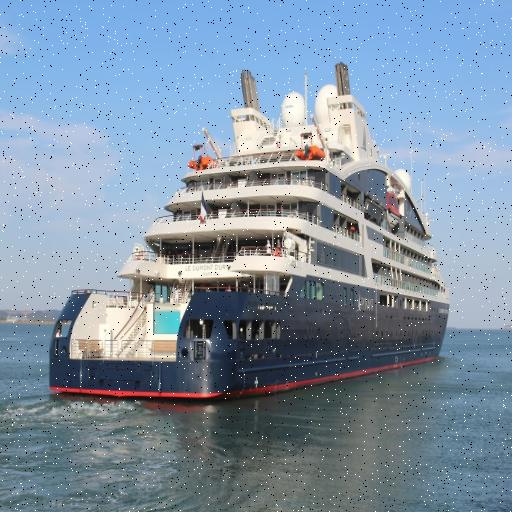cruises: (46, 45, 454, 411)
